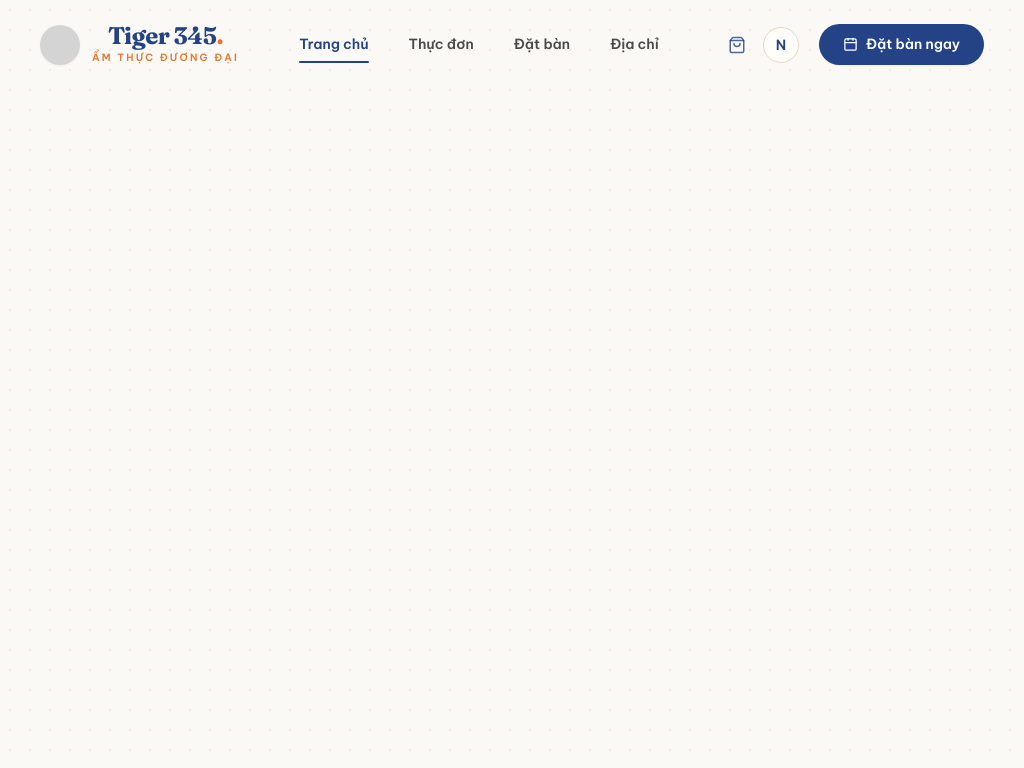
Scenario: Public Header Navigation & Role Separation › renders customer account dropdown with customer links for customer user
Click the button named "tài khoản nguyễn văn khách" at (781, 44), box [763, 26, 799, 62]
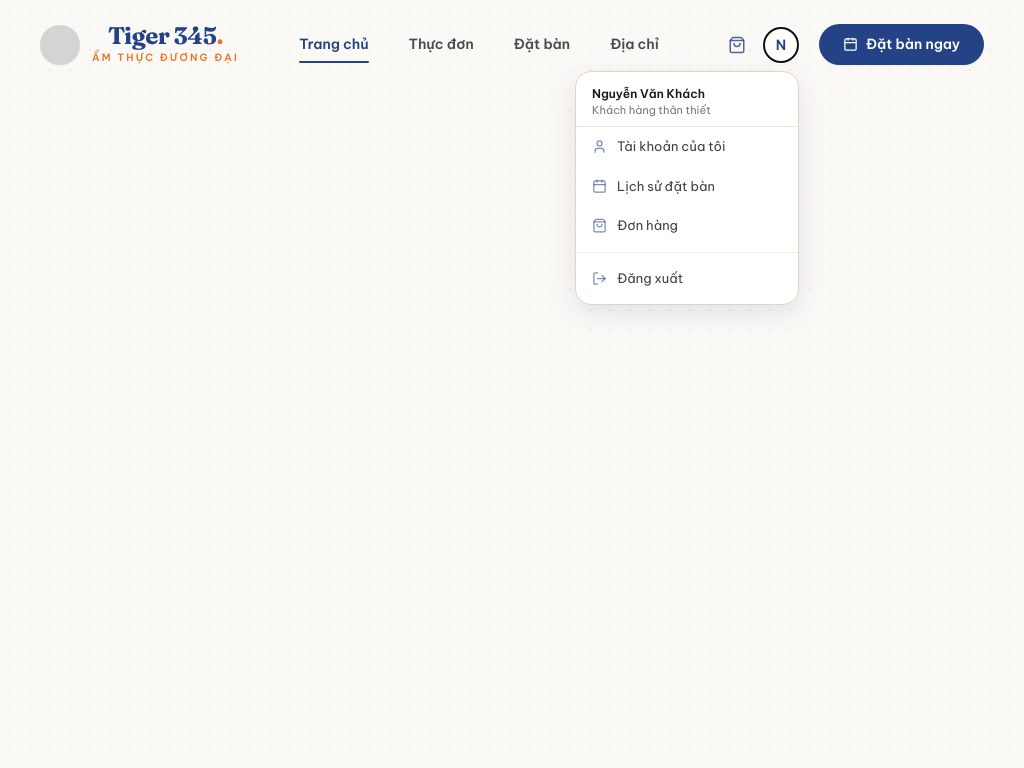
Check: the menu item "Đăng xuất" is shown, box [576, 258, 798, 298]
